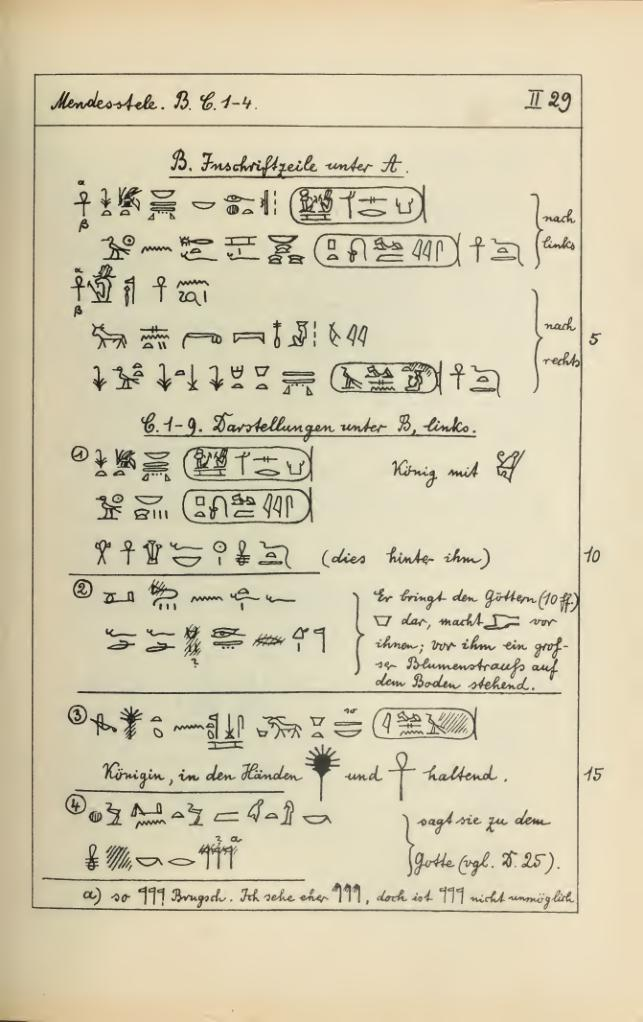circle: (172, 425, 331, 484), (276, 178, 444, 229), (325, 353, 457, 409), (177, 485, 337, 531), (311, 229, 472, 273), (363, 700, 493, 750)
